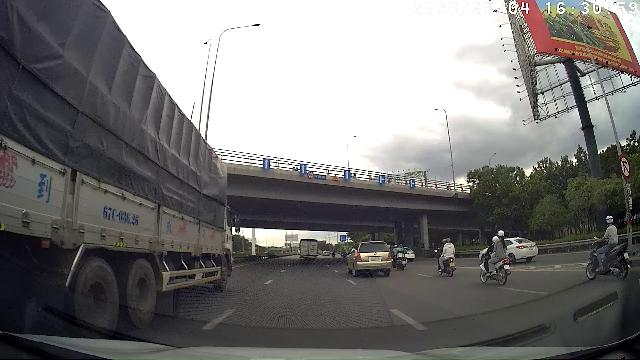123b-cam-re-phai: (618, 154, 632, 180)
